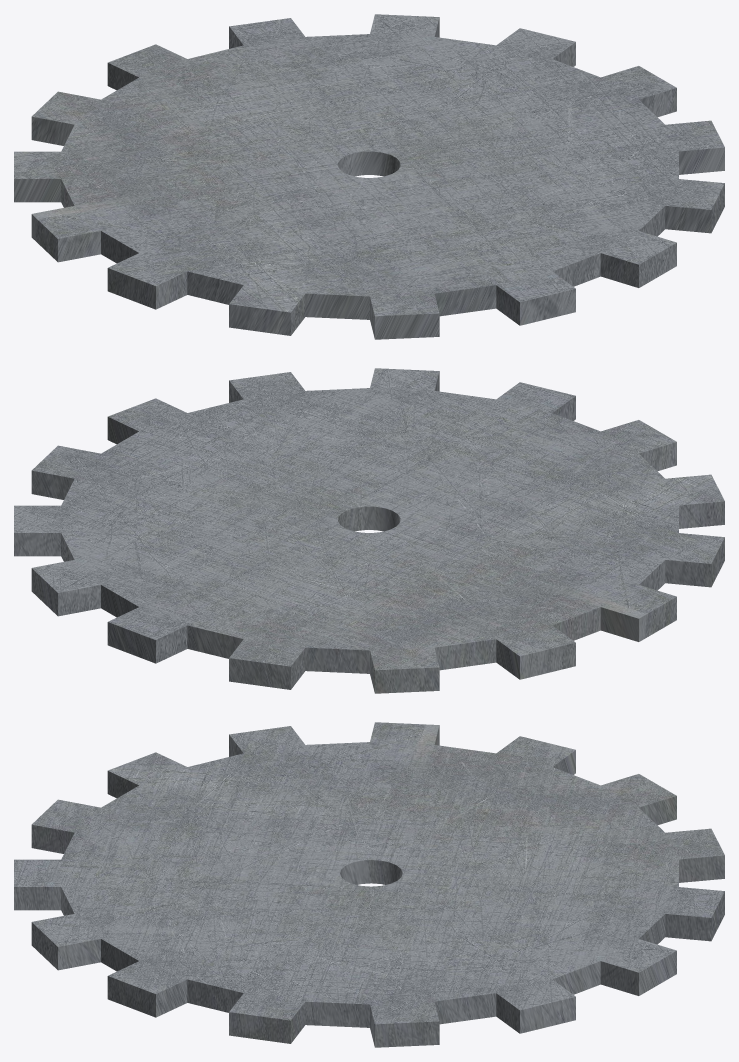
The model's file is Cog1.fbx.
3 renders of one model, top to bottom at view 1: azimuth 30°, elevation 25°; view 2: azimuth 150°, elevation 25°; view 3: azimuth 270°, elevation 25°, orthographic.
Visible parts, largest first — view 1: pCylinder3; view 2: pCylinder3; view 3: pCylinder3.
Boxes of the visible parts, box(x1,y1,x2,y2) form: pCylinder3: box(14, 14, 724, 339); pCylinder3: box(14, 368, 724, 693); pCylinder3: box(14, 722, 724, 1047).
Size of the model in its own units: 1834 by 66.34 by 1824.
Materials: 1 (1 with a texture image).
